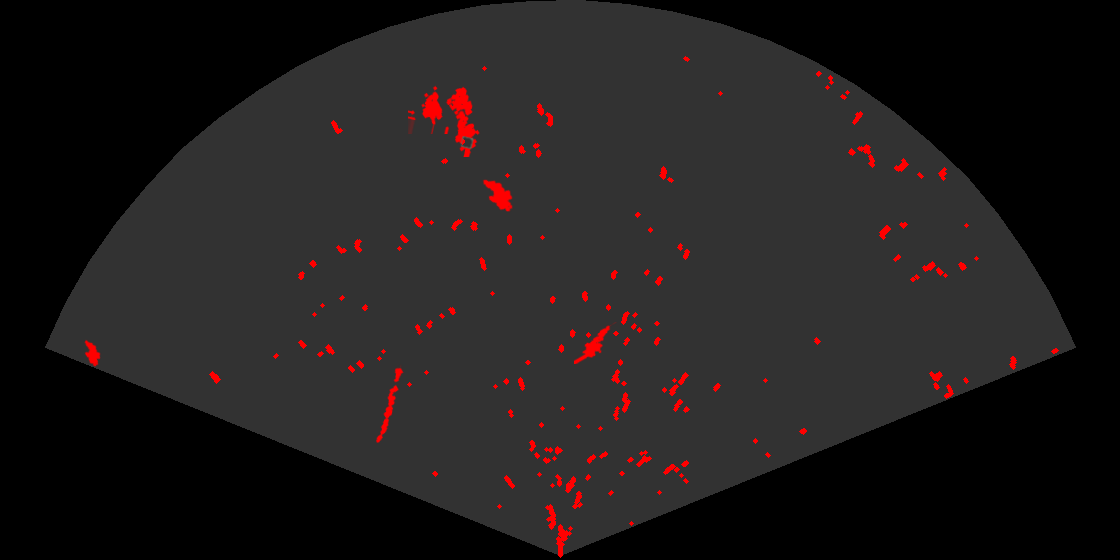AUV: (481, 178, 514, 213), (83, 338, 102, 368)
cage: (408, 84, 474, 134)
chain: (374, 364, 405, 445)
frogman: (574, 322, 618, 364), (453, 96, 481, 157)
